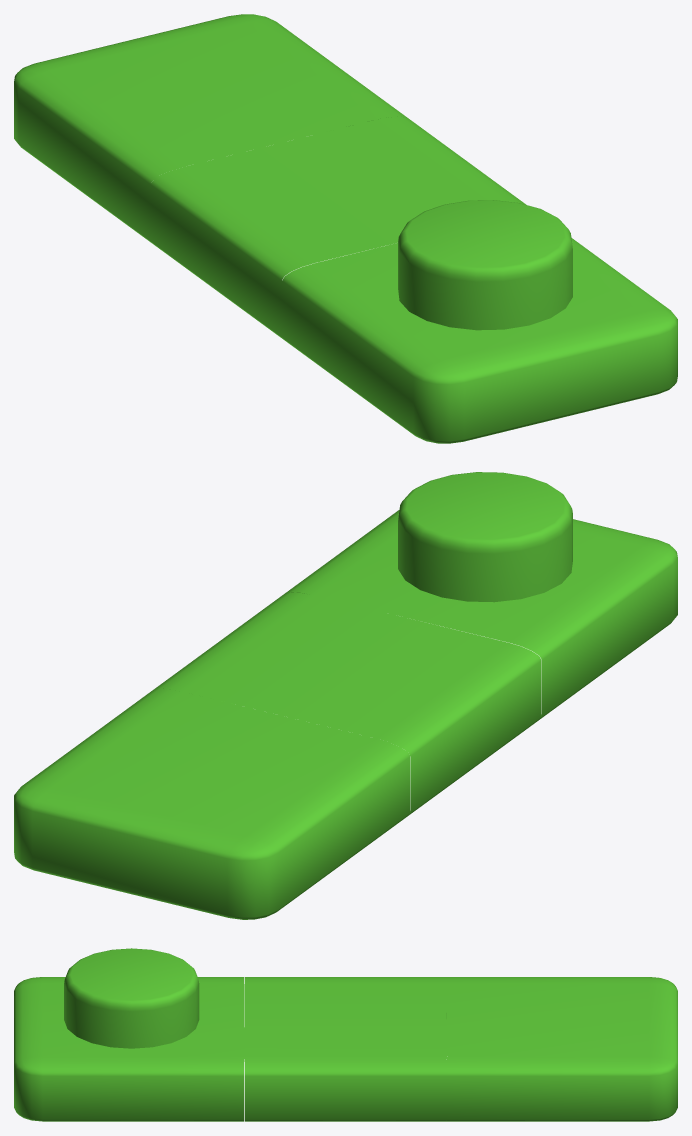
File: Blocks_Plus_Length.fbx
3 renders of one model, top to bottom at view 1: azimuth 30°, elevation 25°; view 2: azimuth 150°, elevation 25°; view 3: azimuth 270°, elevation 25°, orthographic. The views are drawn at different scales.
Parts seen in each view (by area): view 1: DoubleBlock.002, EndingConnectingBlock, MiddleConnectingBlock, TopCylinder; view 2: EndingConnectingBlock, MiddleConnectingBlock, DoubleBlock.002, TopCylinder; view 3: EndingConnectingBlock, MiddleConnectingBlock, DoubleBlock.002, TopCylinder.
Boxes of the visible parts, x1=… form: DoubleBlock.002: x1=282, y1=238, x2=677, y2=443; EndingConnectingBlock: x1=14, y1=14, x2=407, y2=243; MiddleConnectingBlock: x1=150, y1=116, x2=526, y2=339; TopCylinder: x1=398, y1=200, x2=572, y2=330; EndingConnectingBlock: x1=14, y1=688, x2=410, y2=919; MiddleConnectingBlock: x1=153, y1=592, x2=541, y2=815; DoubleBlock.002: x1=285, y1=510, x2=677, y2=719; TopCylinder: x1=398, y1=472, x2=572, y2=602; EndingConnectingBlock: x1=446, y1=977, x2=677, y2=1121; MiddleConnectingBlock: x1=245, y1=977, x2=446, y2=1121; DoubleBlock.002: x1=14, y1=977, x2=244, y2=1121; TopCylinder: x1=64, y1=948, x2=199, y2=1048.
Bounding box in the file's own units: 223 × 108 × 641.
